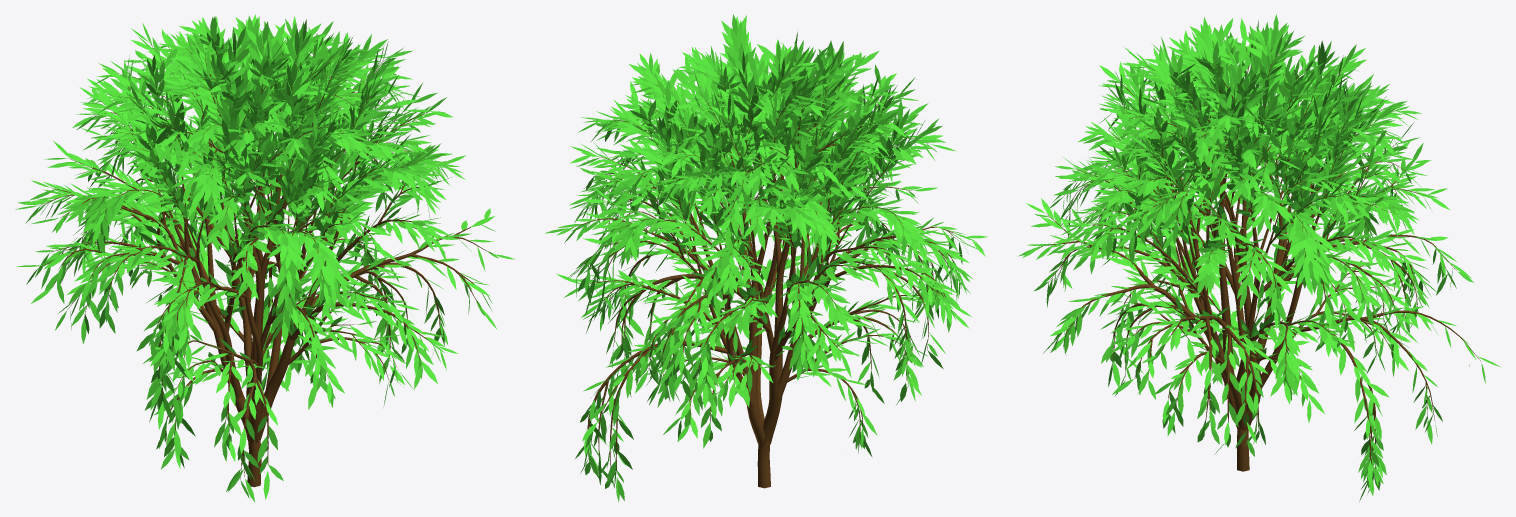
The model's file is treeOne.gltf.
3 renders of one model, left to right at view 1: azimuth 30°, elevation 25°; view 2: azimuth 150°, elevation 25°; view 3: azimuth 270°, elevation 25°, orthographic. The views are drawn at different scales.
Visible parts, largest first — view 1: leaves, tree; view 2: leaves, tree; view 3: leaves, tree.
Boxes of the visible parts, x1,y1,x2,y2 form: leaves: [15, 14, 514, 501]; tree: [39, 43, 492, 487]; leaves: [545, 14, 987, 502]; tree: [570, 58, 958, 488]; leaves: [1018, 14, 1500, 501]; tree: [1039, 47, 1481, 471].
Size of the model in its own units: 6.55 by 6.65 by 6.72.
